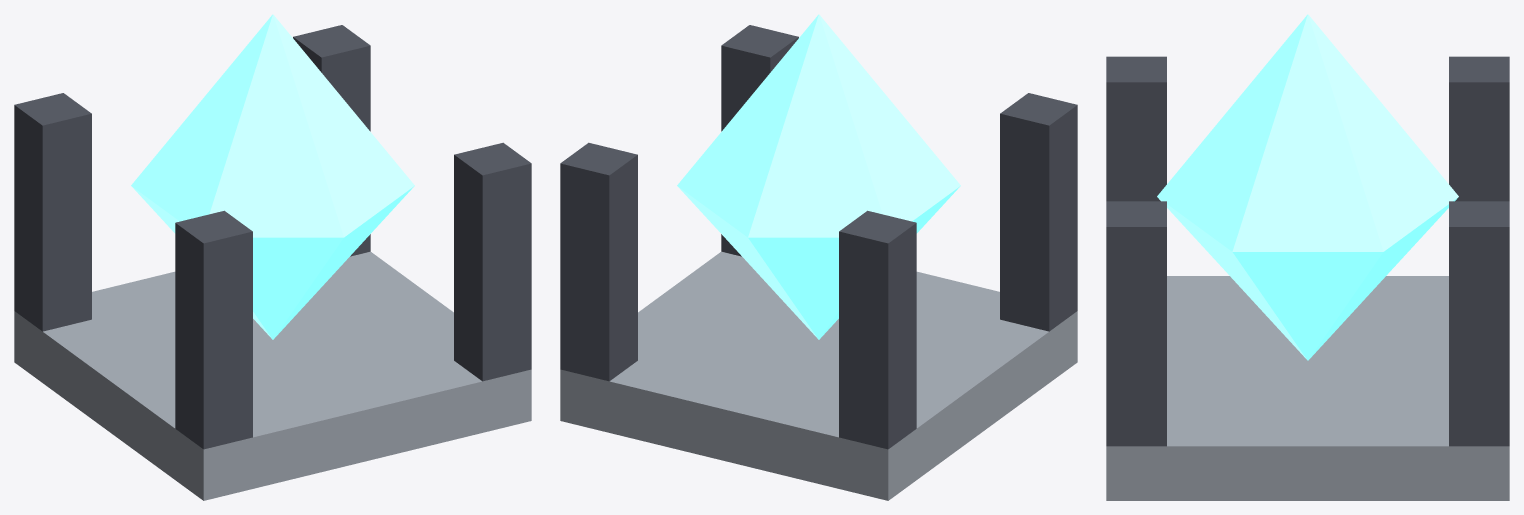
The model's file is nucleo_cristal.glb.
3 views of the same model, side by side, from view 1: azimuth 30°, elevation 25°; view 2: azimuth 150°, elevation 25°; view 3: azimuth 270°, elevation 25° (orthographic). The views are drawn at different scales.
Visible parts, largest first — view 1: nucleo_cristal; view 2: nucleo_cristal; view 3: nucleo_cristal.
Part boxes in pixels (x1=…): nucleo_cristal: x1=14, y1=14, x2=531, y2=500; nucleo_cristal: x1=560, y1=14, x2=1077, y2=500; nucleo_cristal: x1=1106, y1=14, x2=1509, y2=500.
Bounding box in the file's own units: 0.2 × 0.22 × 0.2.
